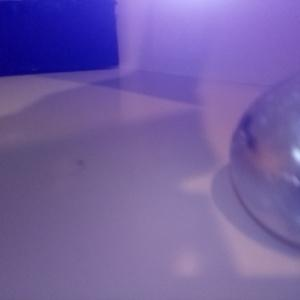alive_ball: (229, 70, 300, 247)
